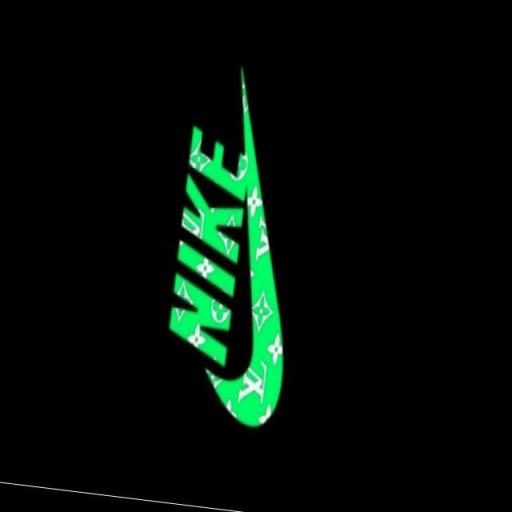Nike: (210, 124, 316, 438), (164, 120, 258, 370)
